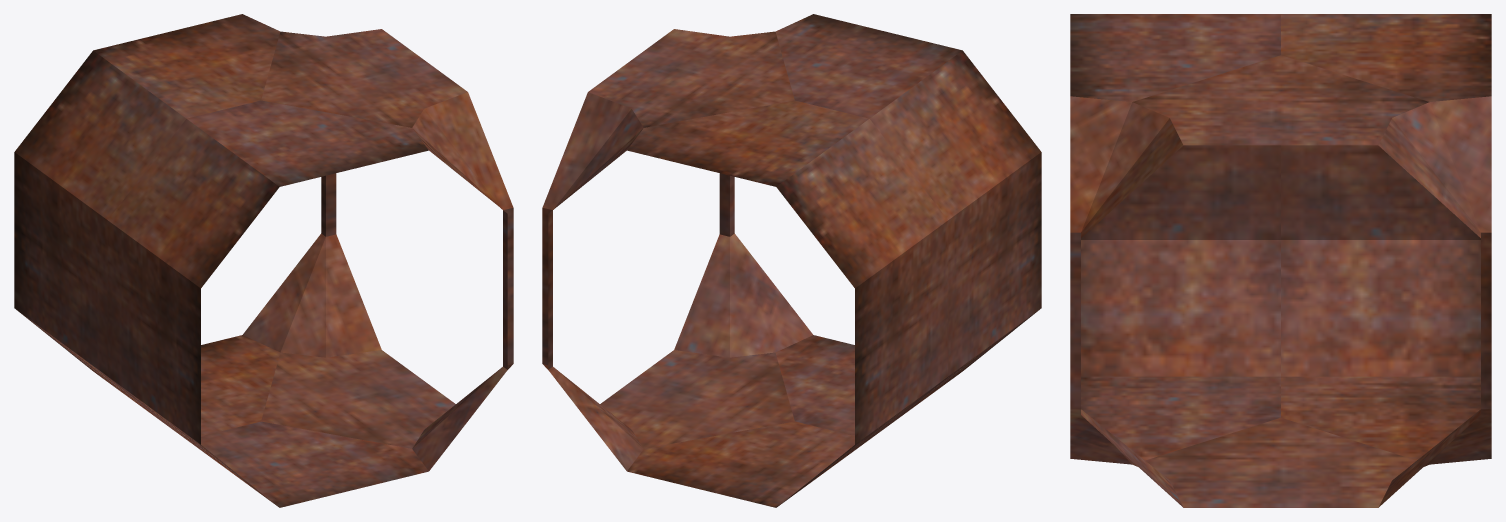
The model's file is MESH_ESGOTO_PIPE_T.fbx.
3 renders of one model, left to right at view 1: azimuth 30°, elevation 25°; view 2: azimuth 150°, elevation 25°; view 3: azimuth 270°, elevation 25°, orthographic. The views are drawn at different scales.
Visible parts, largest first — view 1: MESH_ESGOTO_PIPE_T; view 2: MESH_ESGOTO_PIPE_T; view 3: MESH_ESGOTO_PIPE_T.
Part boxes in pixels (x1=…): MESH_ESGOTO_PIPE_T: x1=14, y1=14, x2=513, y2=507; MESH_ESGOTO_PIPE_T: x1=542, y1=14, x2=1041, y2=507; MESH_ESGOTO_PIPE_T: x1=1070, y1=14, x2=1491, y2=507.
Bounding box in the file's own units: 3.02 × 2.92 × 3.08.
